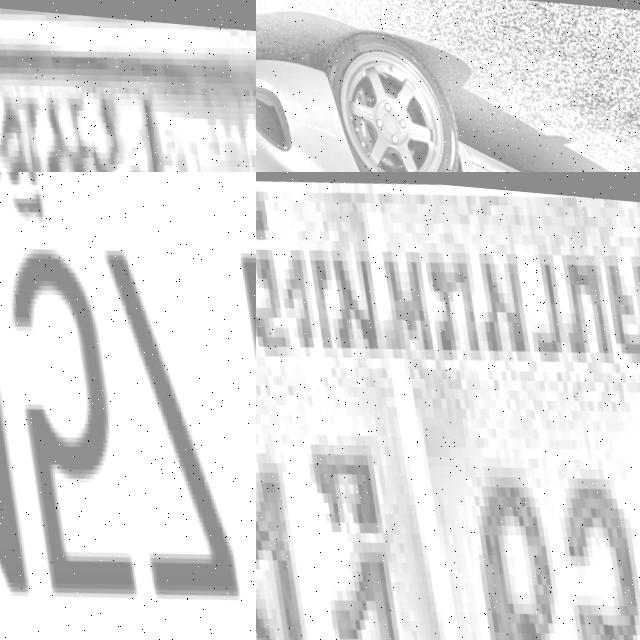license-plate: (256, 172, 640, 640), (0, 172, 256, 640), (0, 0, 256, 172)
